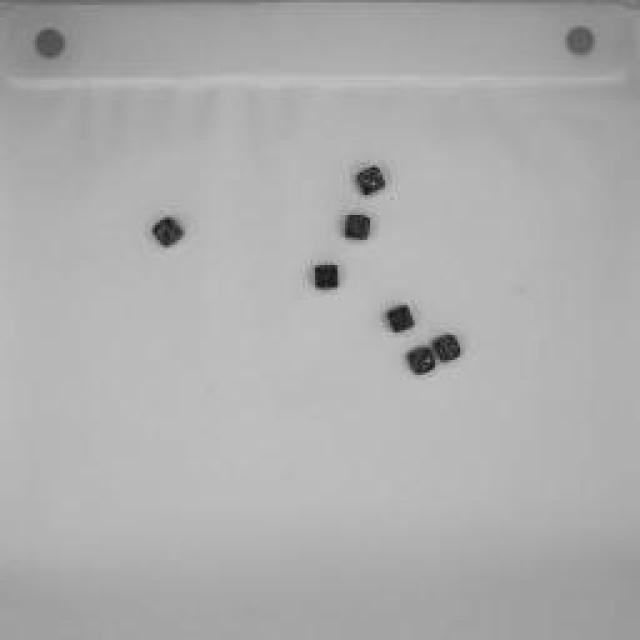dice_1: (144, 211, 191, 251), (310, 263, 345, 295)
dice_3: (382, 301, 422, 339)
dice_4: (401, 341, 439, 379), (430, 332, 468, 368)
dice_5: (351, 160, 394, 205), (335, 205, 377, 247)
